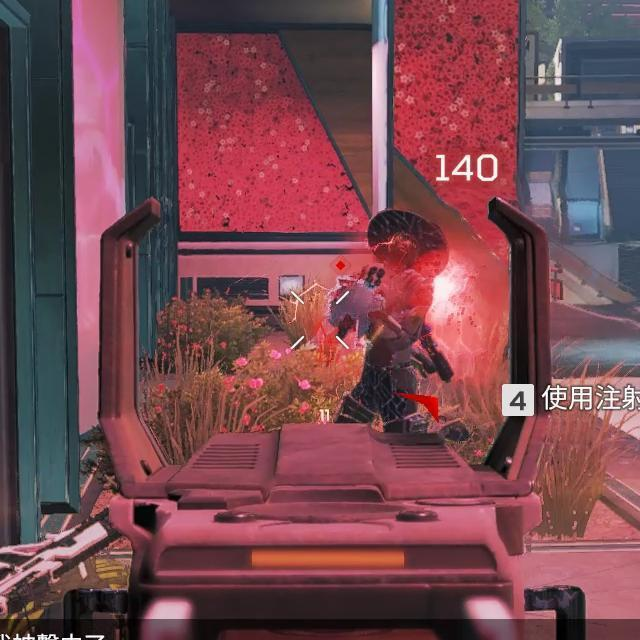avatar: (327, 207, 455, 435)
object: (407, 252, 480, 333)
